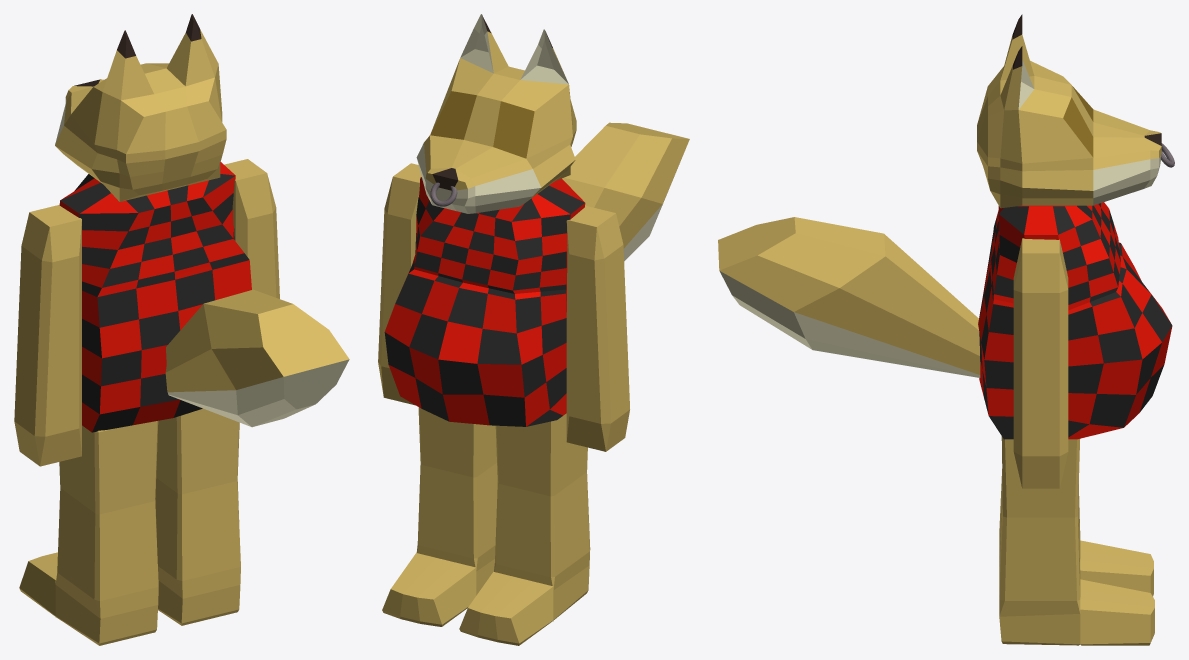
The model's file is Skaifox.glb.
3 renders of one model, left to right at view 1: azimuth 30°, elevation 25°; view 2: azimuth 150°, elevation 25°; view 3: azimuth 270°, elevation 25°, orthographic. The views are drawn at different scales.
Parts seen in each view (by area): view 1: Cube, Cube.002, Cube.001, Cube.006, Cube.003, Cube.005, Cube.004; view 2: Cube, Cube.001, Cube.002, Cube.003, Cube.005, Cube.006, Cube.004; view 3: Cube.006, Cube, Cube.001, Cube.003, Cube.004, Cube.002.
Boxes of the visible parts, x1,y1,x2,y2 form: Cube: (59, 162, 251, 432); Cube.002: (19, 421, 158, 645); Cube.001: (55, 14, 226, 201); Cube.006: (165, 289, 349, 427); Cube.003: (155, 408, 240, 625); Cube.005: (14, 205, 81, 466); Cube.004: (224, 159, 279, 298); Cube: (384, 177, 585, 426); Cube.001: (416, 14, 576, 213); Cube.002: (459, 413, 590, 645); Cube.003: (382, 407, 497, 626); Cube.005: (566, 206, 629, 451); Cube.006: (562, 122, 689, 261); Cube.004: (378, 163, 421, 405); Cube.006: (718, 217, 980, 377); Cube: (978, 202, 1172, 439); Cube.001: (977, 14, 1161, 208); Cube.003: (999, 436, 1154, 645); Cube.004: (1013, 238, 1068, 488); Cube.002: (999, 469, 1153, 596).
Bounding box in the file's own units: 0.8166 × 1.88 × 1.34.
